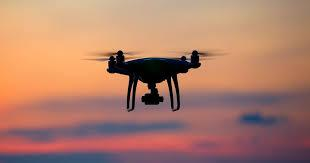drone_other: (80, 47, 227, 112)
